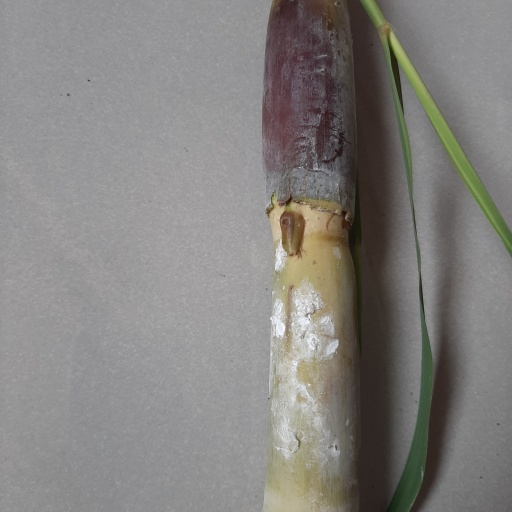Bud: (278, 212, 302, 256)
